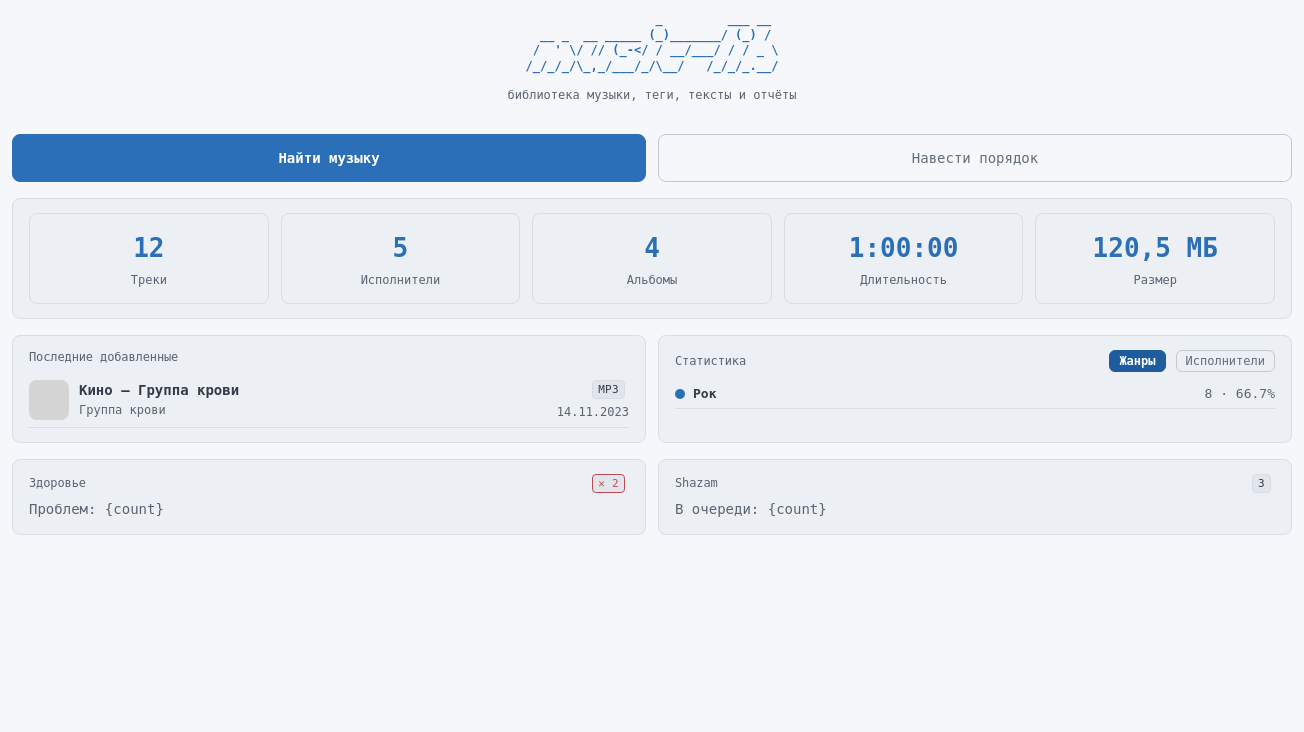
it: MenuScreen › статистика: жанры/исполнители переключаются
Expected: the text "Рок" is shown, [693,386,716,401]
Expected: the text "8 · 66.7%" is shown, [1204,384,1275,404]
Click the button "Исполнители".
click(1225, 361)  # box [1176,350,1275,372]
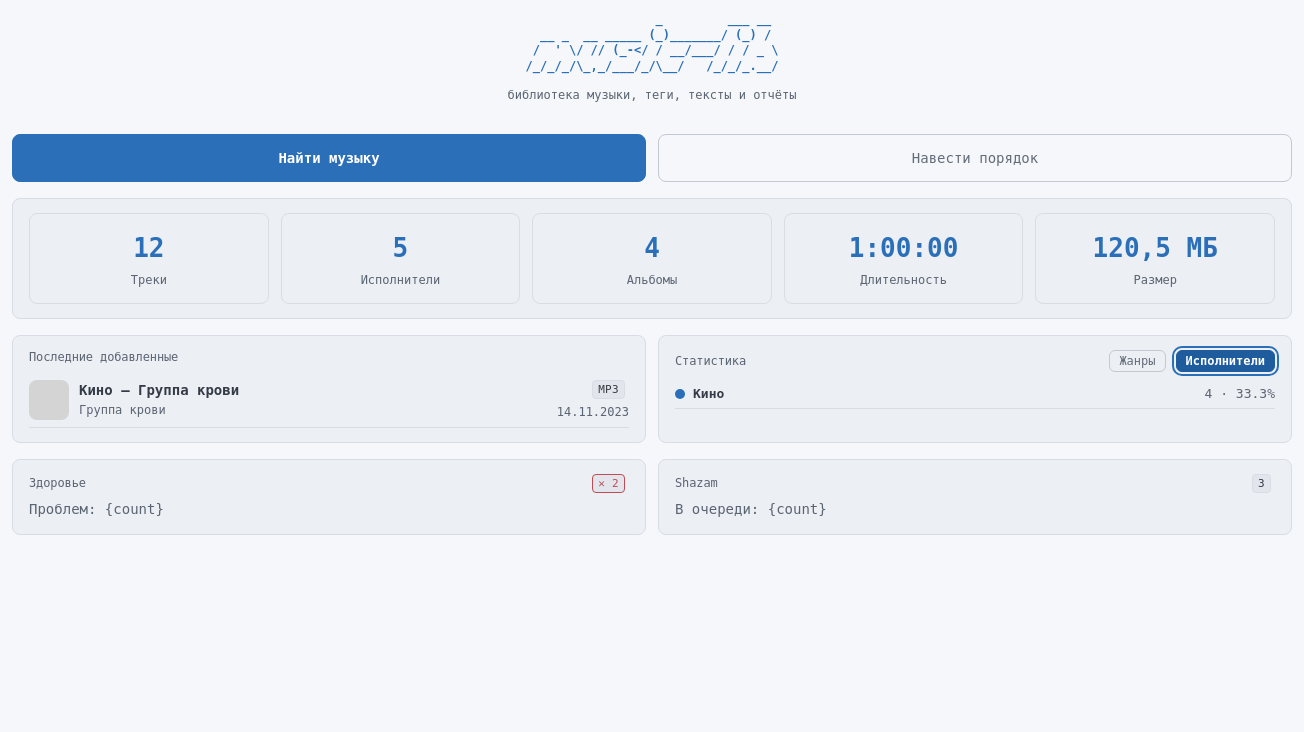
Now the text "Кино" is shown, box [693,386,724,401]
Now the text "Рок" is gone
